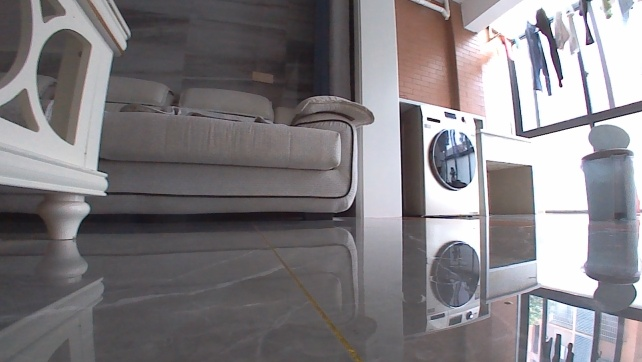sofa: (0, 65, 377, 223)
washing_machine: (400, 102, 480, 216)
